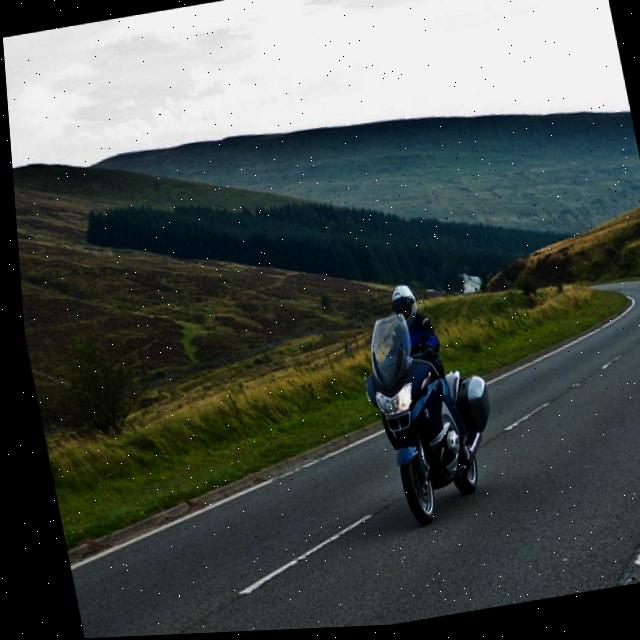motorcycle: (344, 299, 514, 530)
